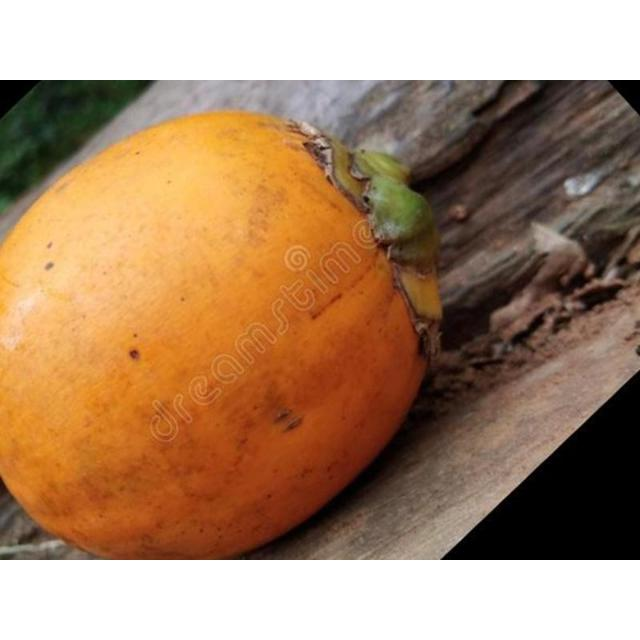good: (0, 111, 441, 559)
